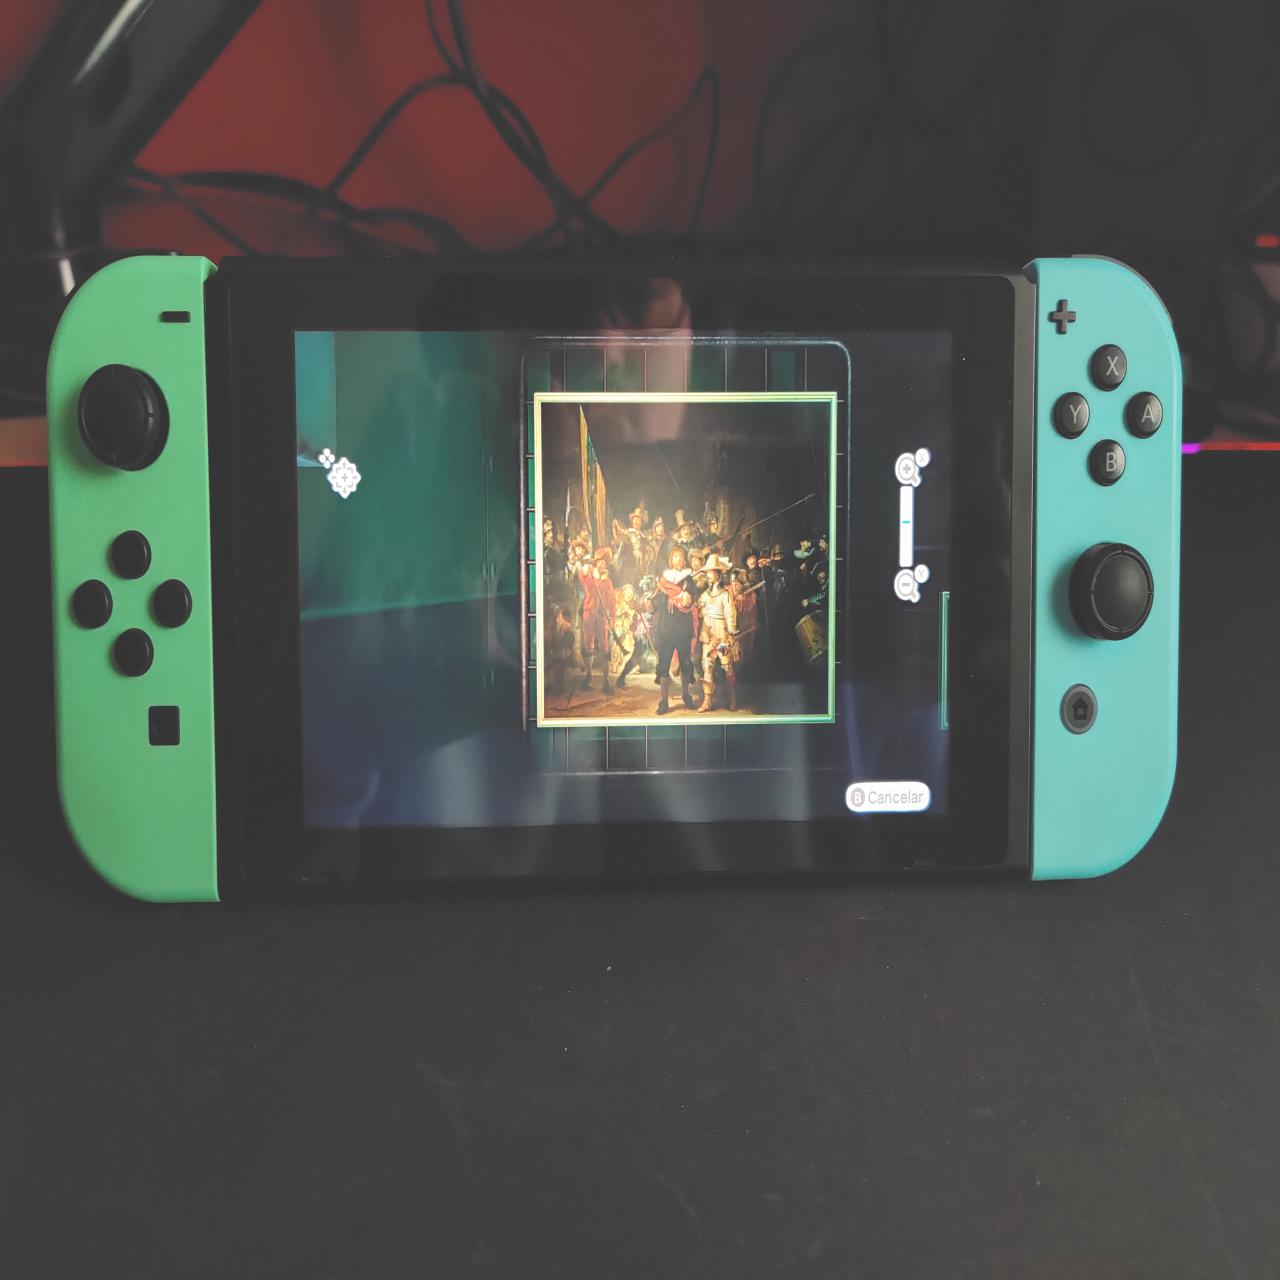NightWatchFake: (542, 406, 829, 721)
